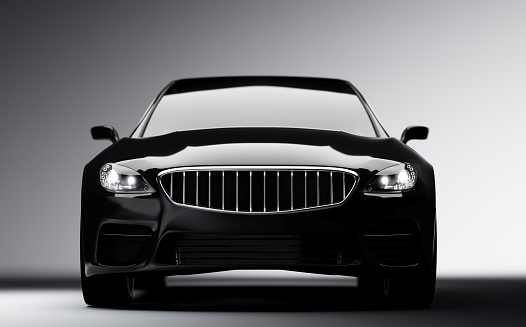car: (78, 76, 439, 311)
